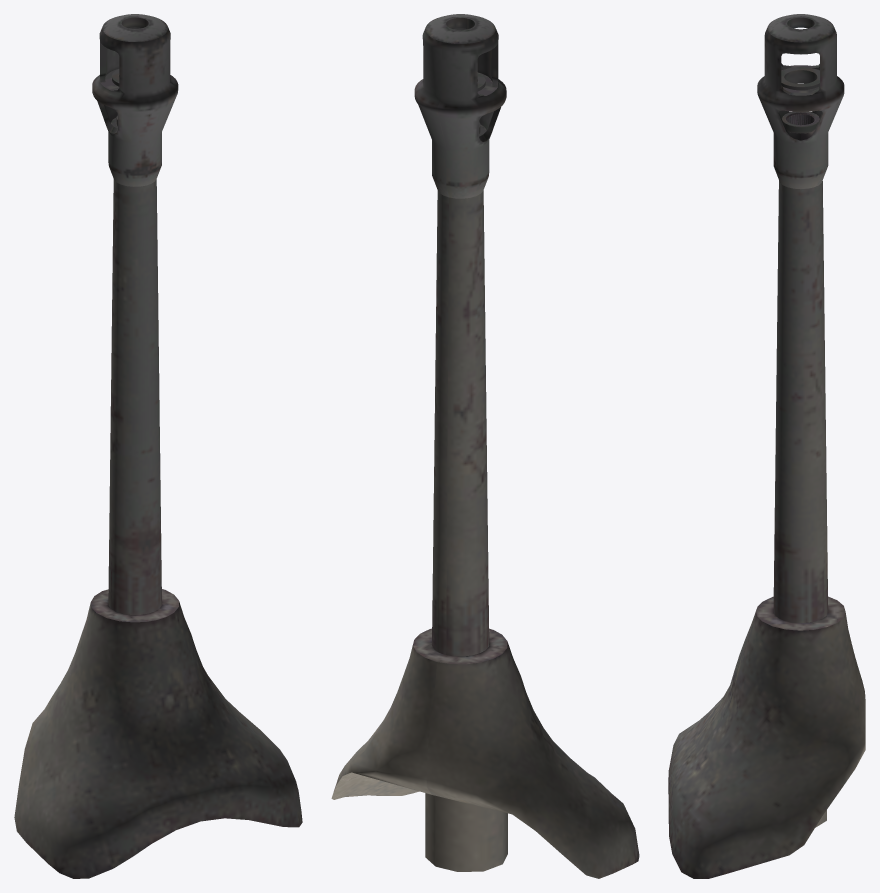
The model's file is Gun_01.glb.
3 renders of one model, left to right at view 1: azimuth 30°, elevation 25°; view 2: azimuth 150°, elevation 25°; view 3: azimuth 270°, elevation 25°, orthographic. The views are drawn at different scales.
Visible parts, largest first — view 1: set_0_group_0; view 2: set_0_group_0; view 3: set_0_group_0.
Part boxes in pixels (box(x1,y1,x2,y2)): set_0_group_0: box(14, 14, 302, 878); set_0_group_0: box(331, 14, 639, 878); set_0_group_0: box(668, 14, 865, 878).
Bounding box in the file's own units: 0.8002 × 2.41 × 0.5374.
1 material, 1 textured.
